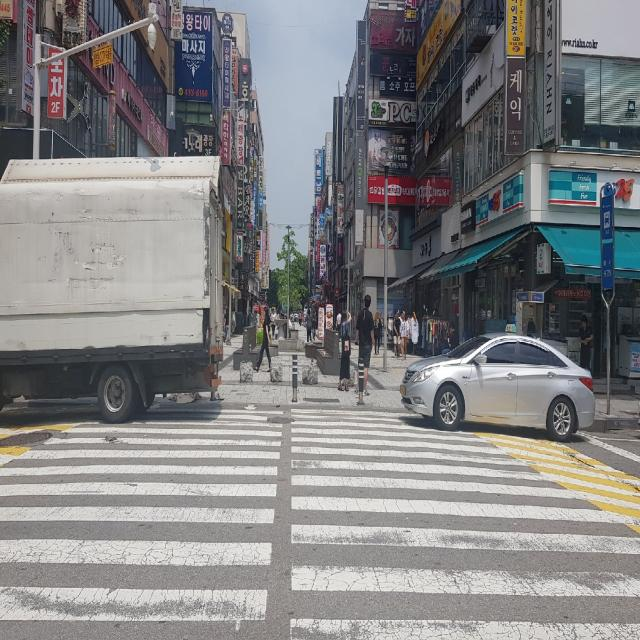횡단보도: (0, 404, 640, 640)
